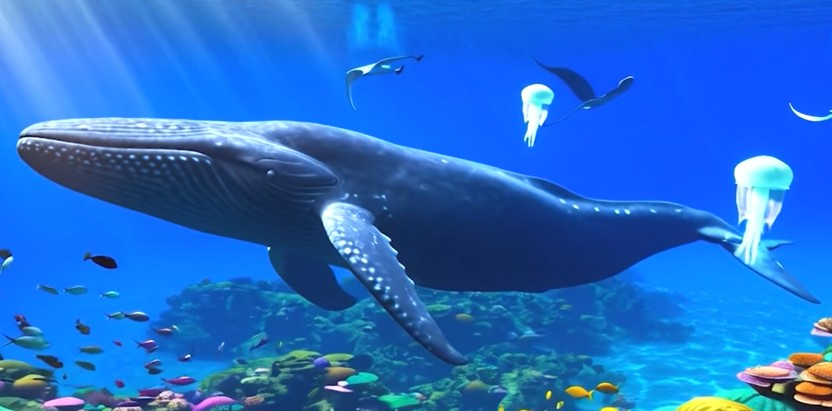whale: (19, 115, 815, 367), (521, 84, 555, 148)
